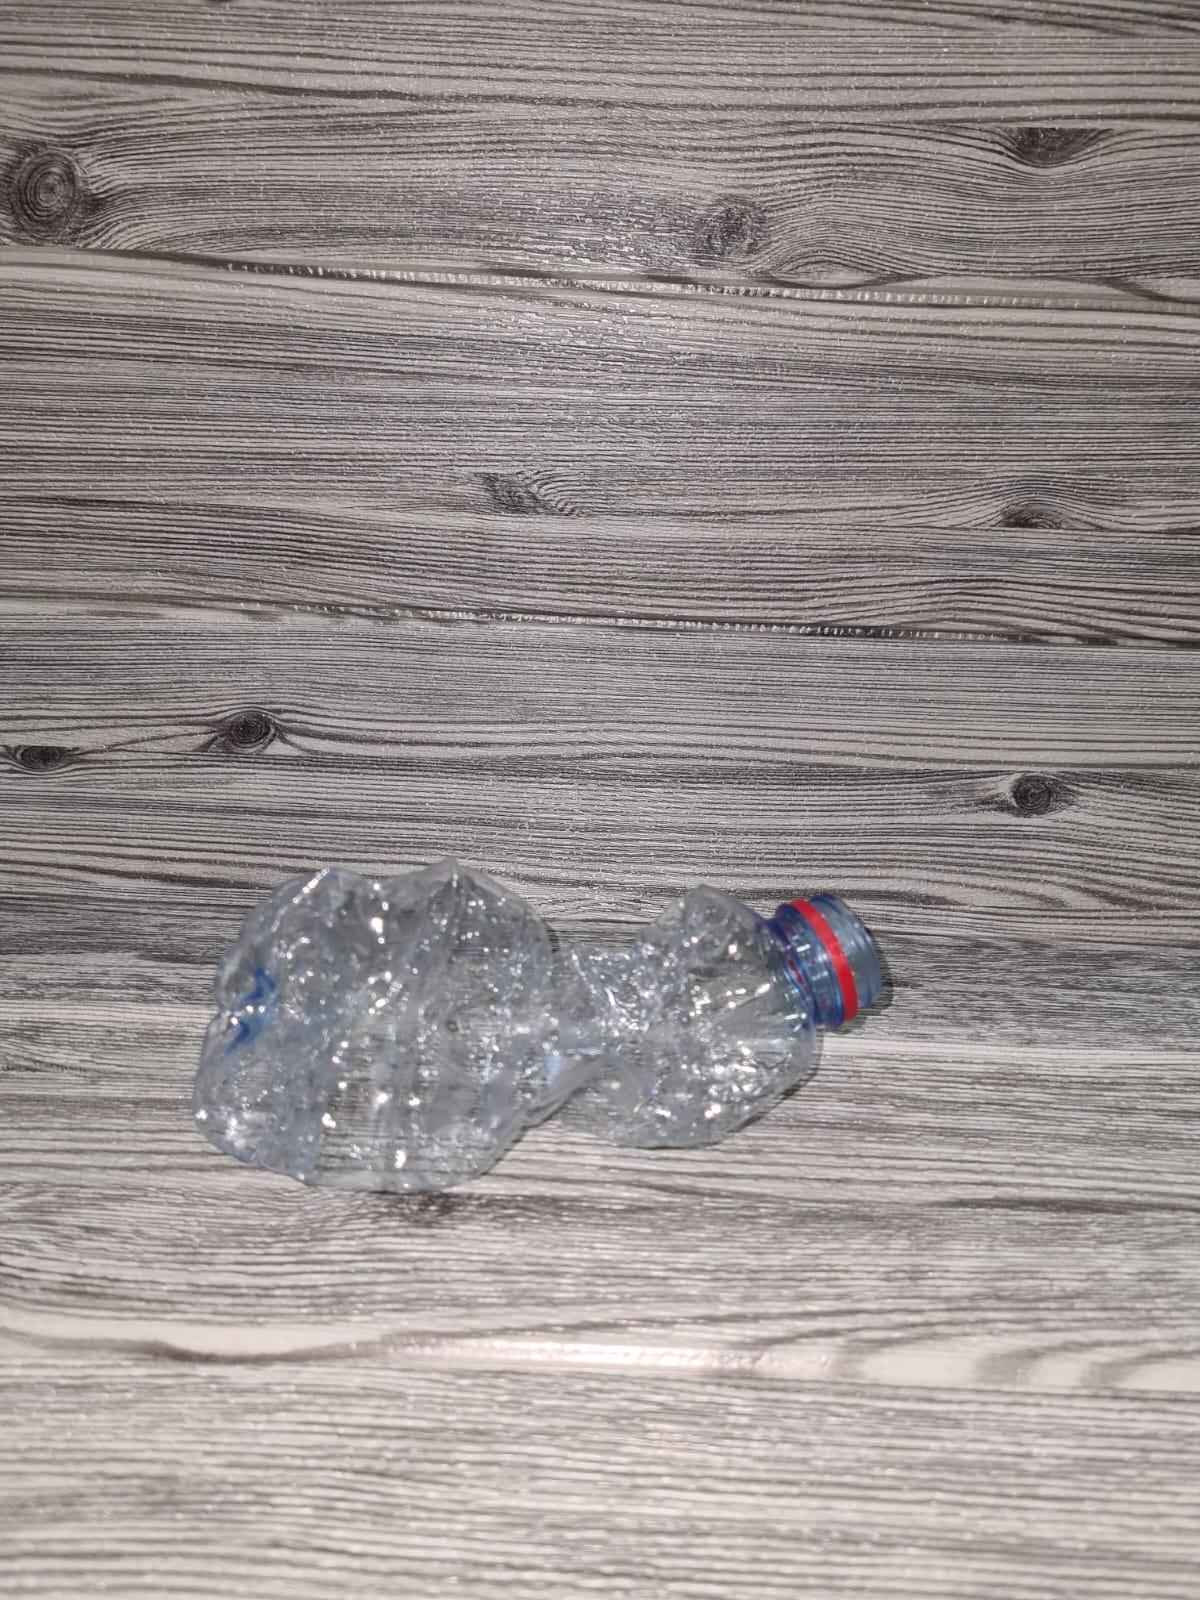bottle: (195, 854, 900, 1194)
